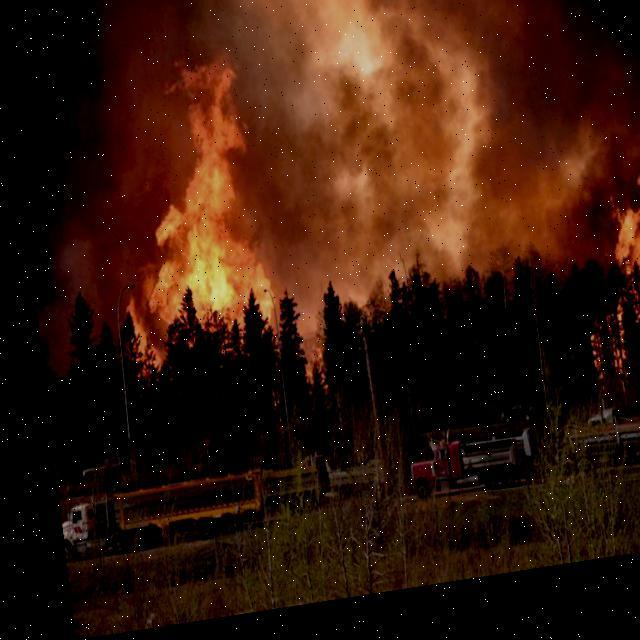Fire: (82, 49, 288, 384), (564, 201, 639, 430)
